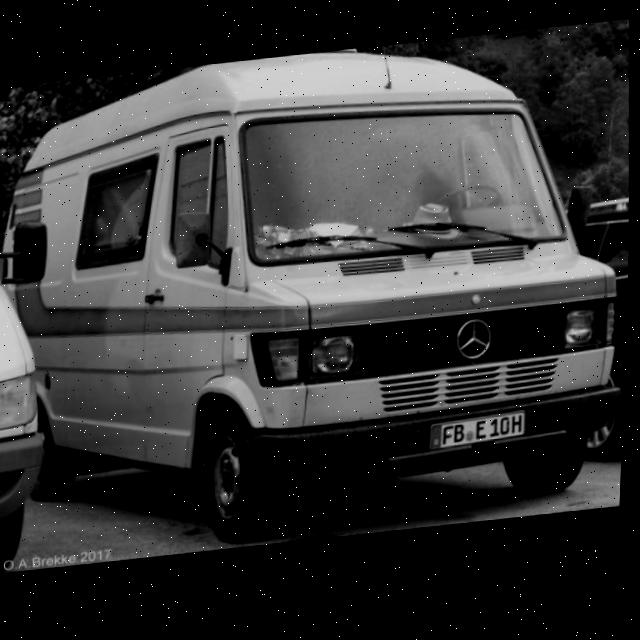license-plates: (432, 411, 525, 450)
